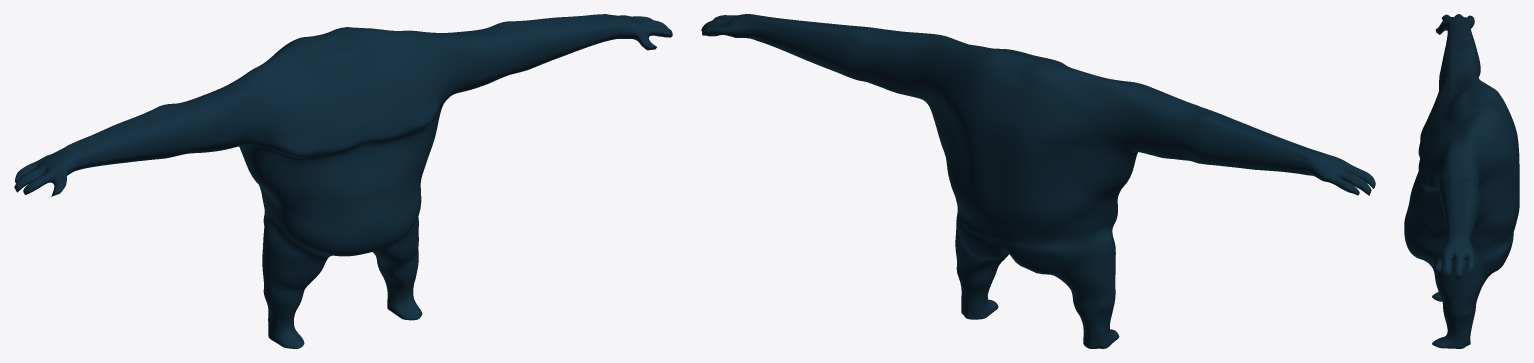
Rendered from melee_enemy_high.fbx.
3 views of the same model, side by side, from view 1: azimuth 30°, elevation 25°; view 2: azimuth 150°, elevation 25°; view 3: azimuth 270°, elevation 25° (orthographic). The views are drawn at different scales.
Parts seen in each view (by area): view 1: Body_high; view 2: Body_high; view 3: Body_high.
Boxes of the visible parts, x1,y1,x2,y2 form: Body_high: [14, 14, 672, 348]; Body_high: [701, 14, 1375, 348]; Body_high: [1404, 14, 1519, 348].
Bounding box in the file's own units: 1274 × 517 × 241.
